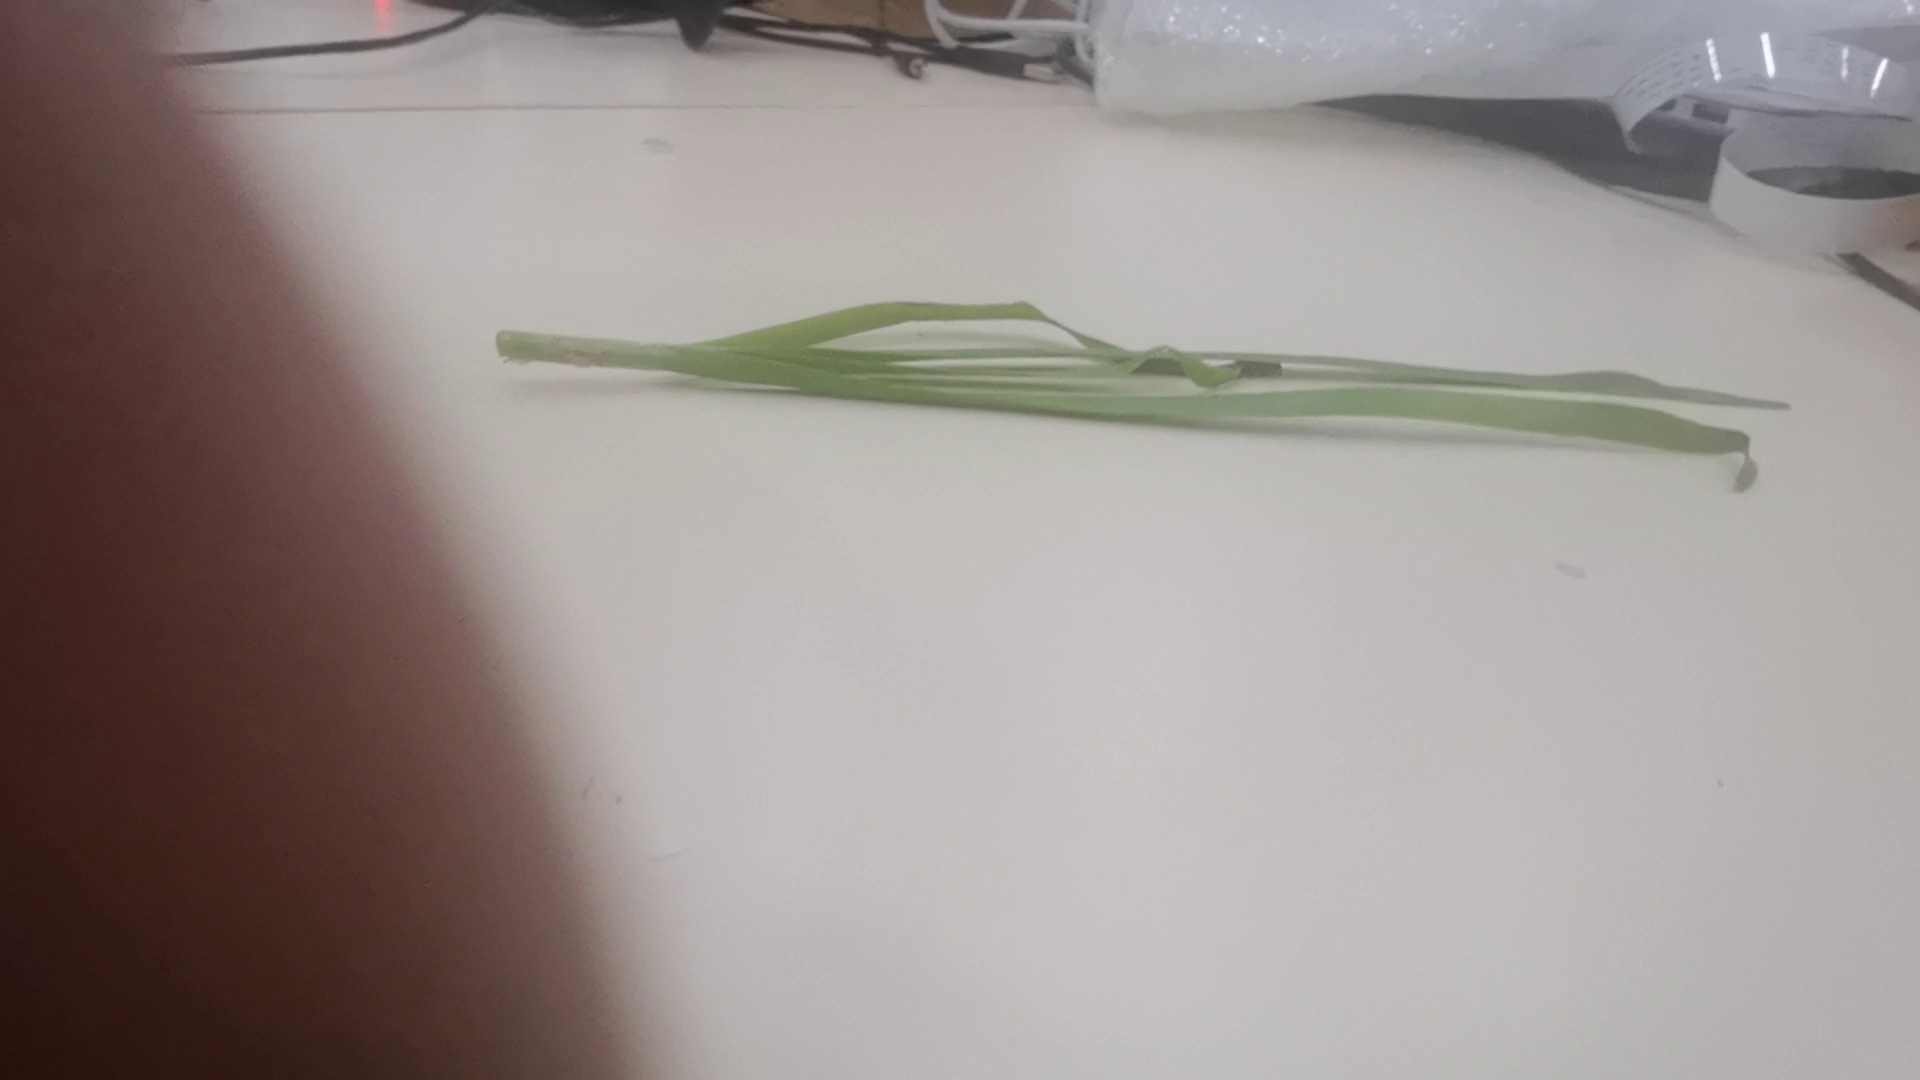chives: (473, 266, 1818, 488)
